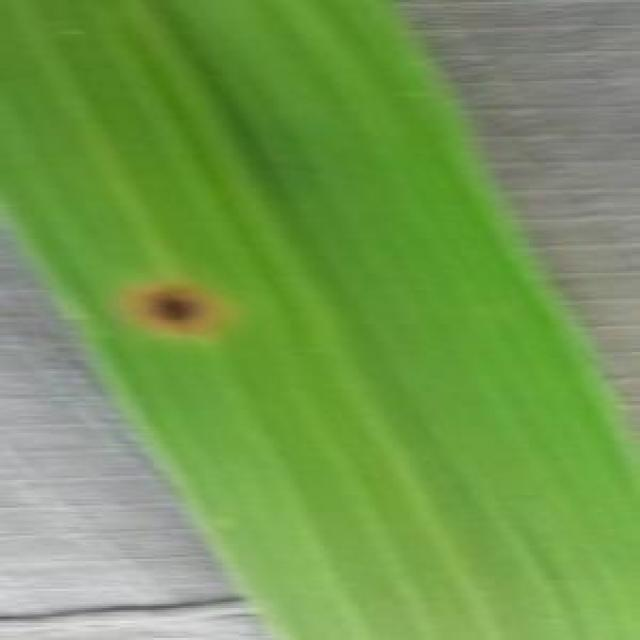brownspots: (115, 270, 269, 344)
